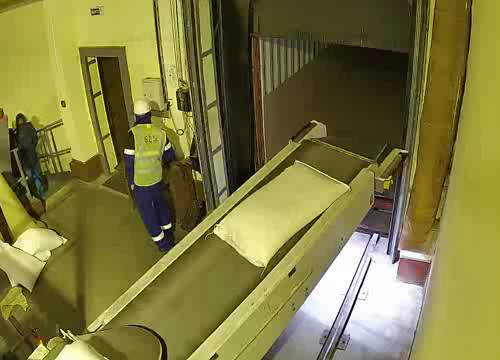bag: (210, 155, 359, 272), (50, 335, 125, 360)
